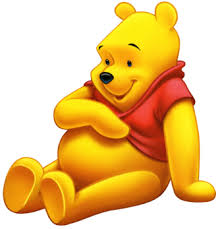Winnie: (78, 2, 195, 150)
